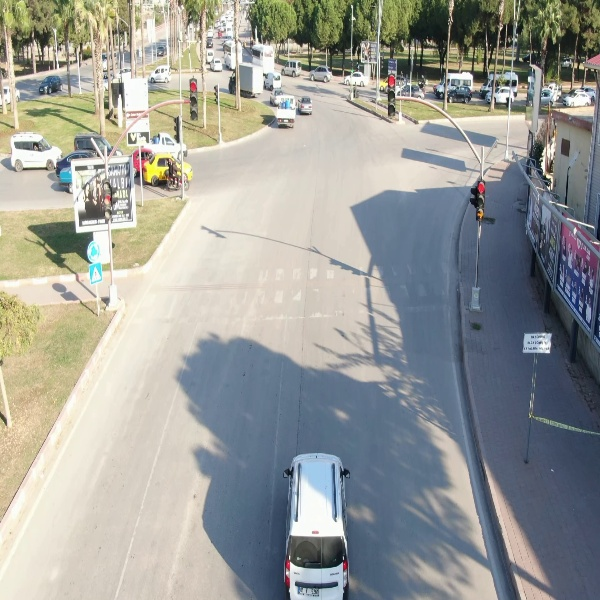car: (281, 451, 350, 600), (9, 131, 63, 173), (39, 70, 63, 100), (564, 87, 594, 109), (149, 63, 174, 87), (448, 84, 476, 103), (341, 71, 370, 89), (308, 64, 335, 82), (282, 59, 303, 78), (297, 95, 315, 116)
